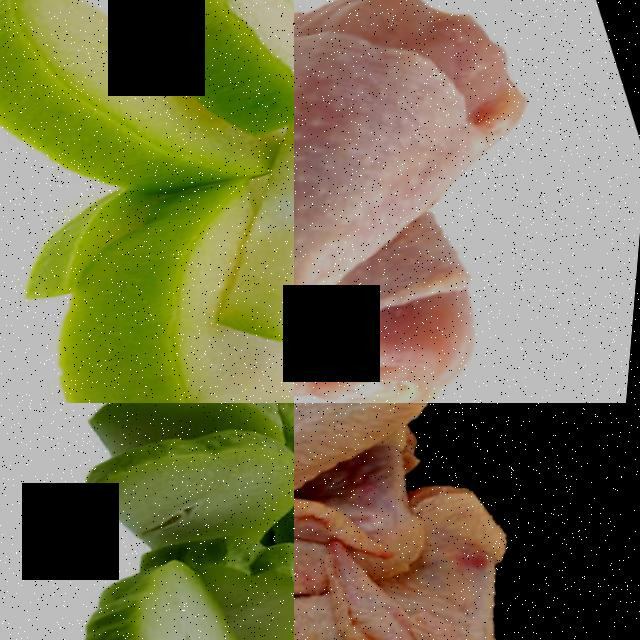chicken thigh: (294, 0, 624, 403)
chicken wing: (294, 403, 497, 618), (294, 509, 557, 640)
